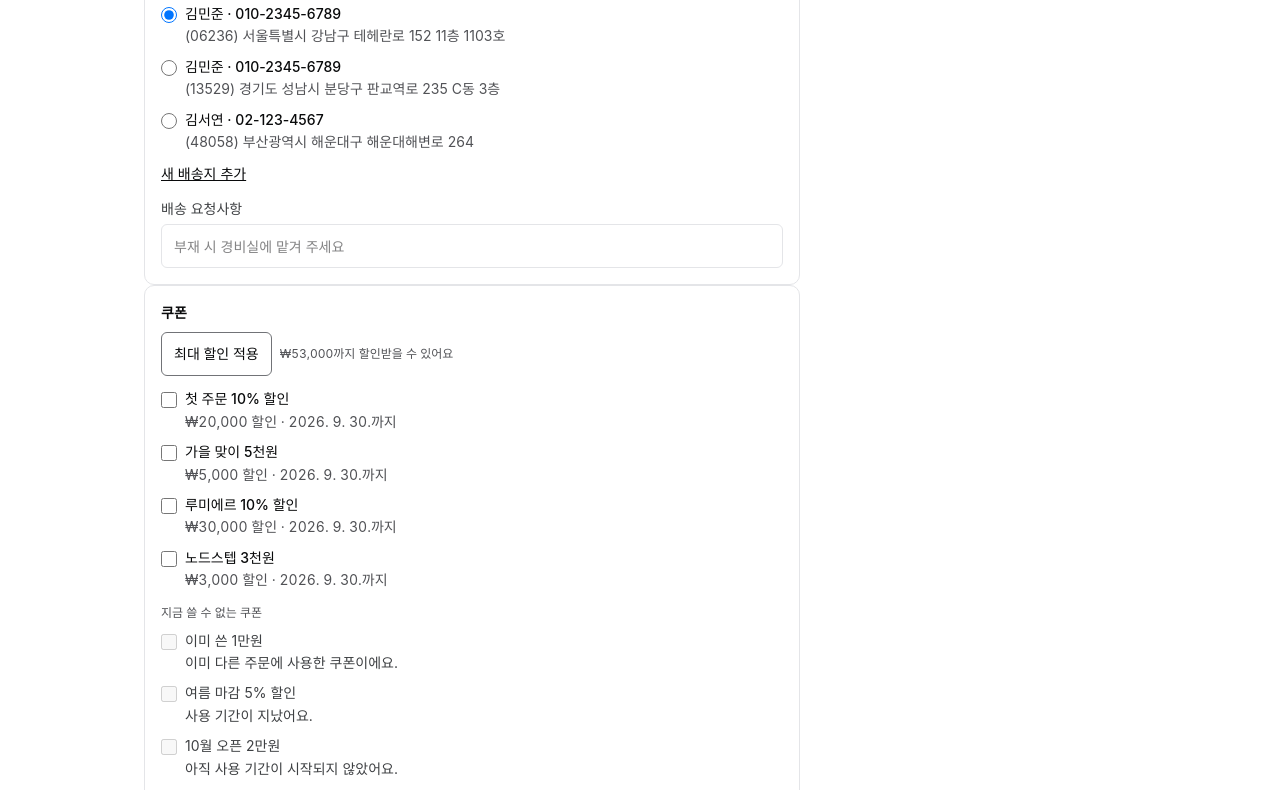
Test: 고르면 금액이 다시 온다 › takes a coupon back off and returns to the full price
(page scrolled)
Step 1. Click the checkbox labelled "첫 주문 10% 할인 ₩20,000 할인 · 2026. 9. 30.까지" → (169, 400), box [161, 392, 177, 408]
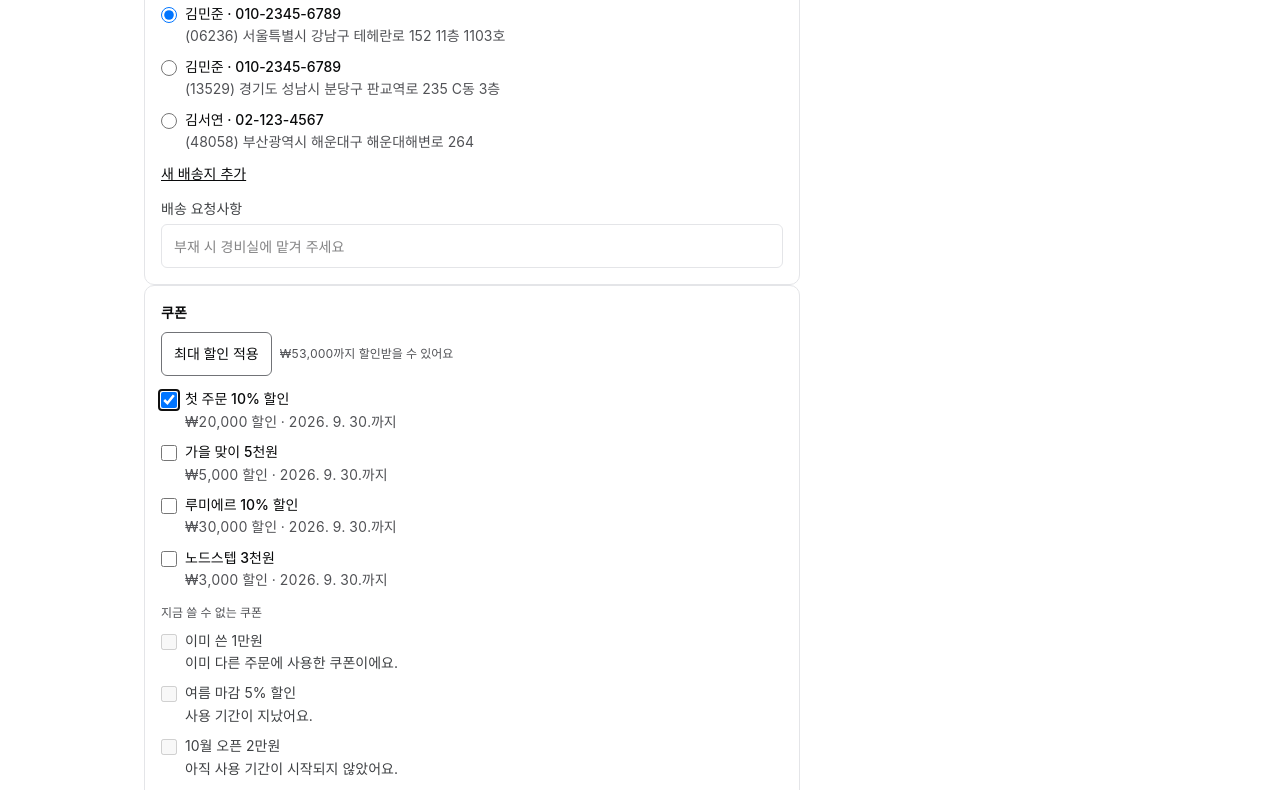
Step 2. Click the checkbox labelled "첫 주문 10% 할인 ₩20,000 할인 · 2026. 9. 30.까지" → (169, 400), box [161, 392, 177, 408]
(page scrolled)
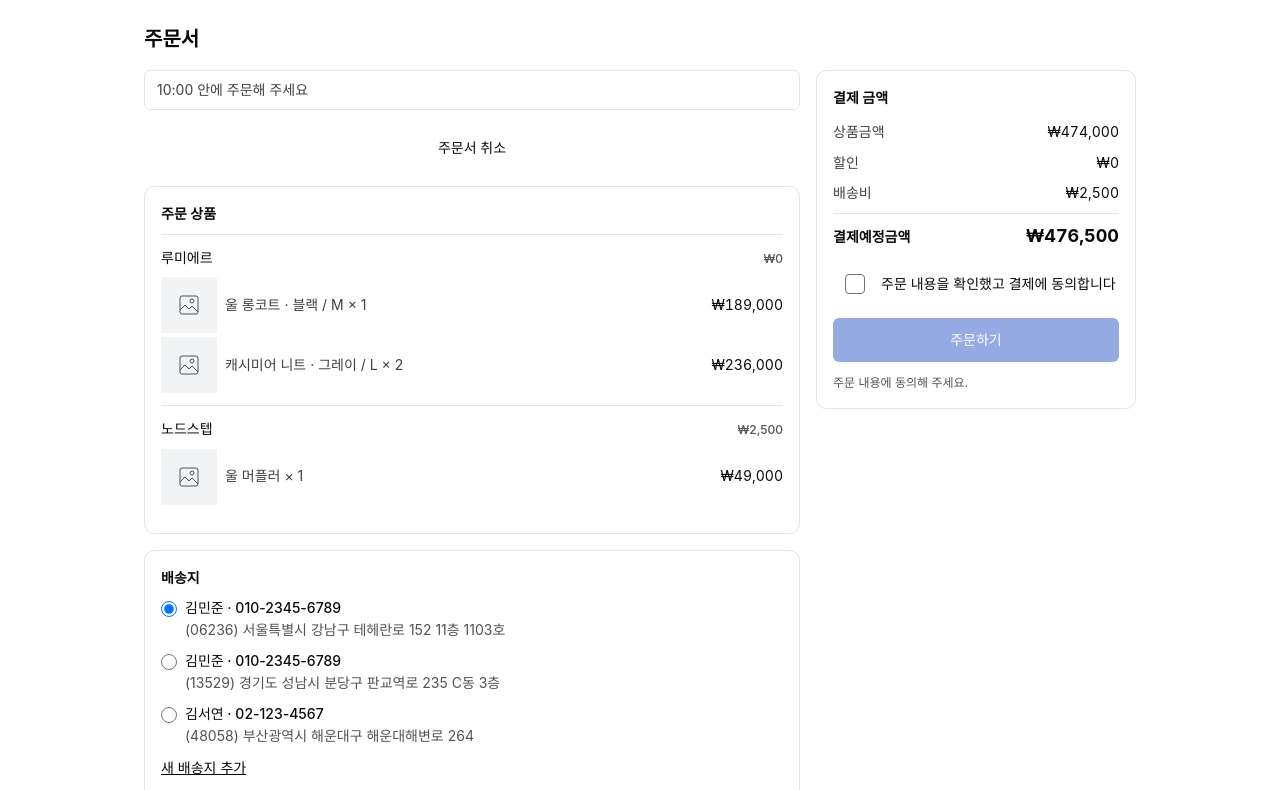
Result: the text "₩476,500" is shown at [1026, 222, 1119, 250]
